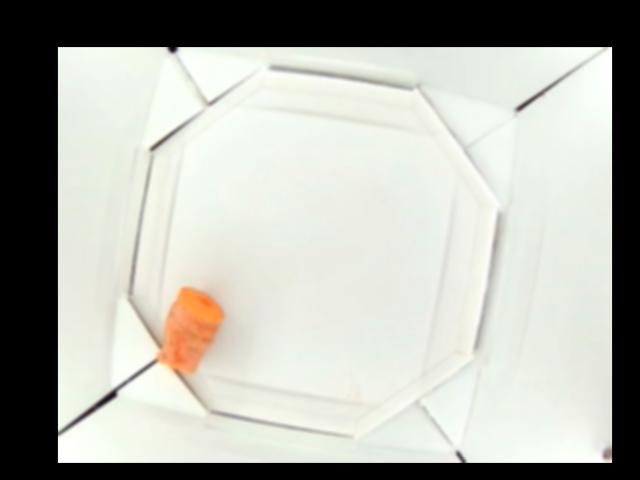Carrot: (154, 286, 222, 372)
